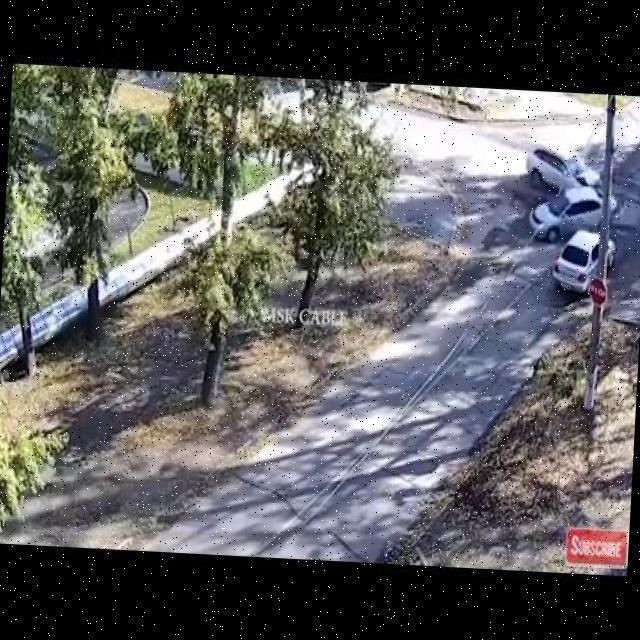accident: (510, 137, 621, 245)
